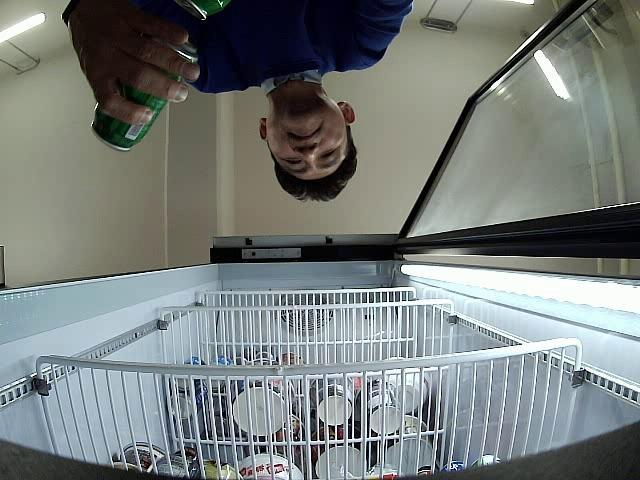12_chilsungCider: (90, 38, 200, 152)
